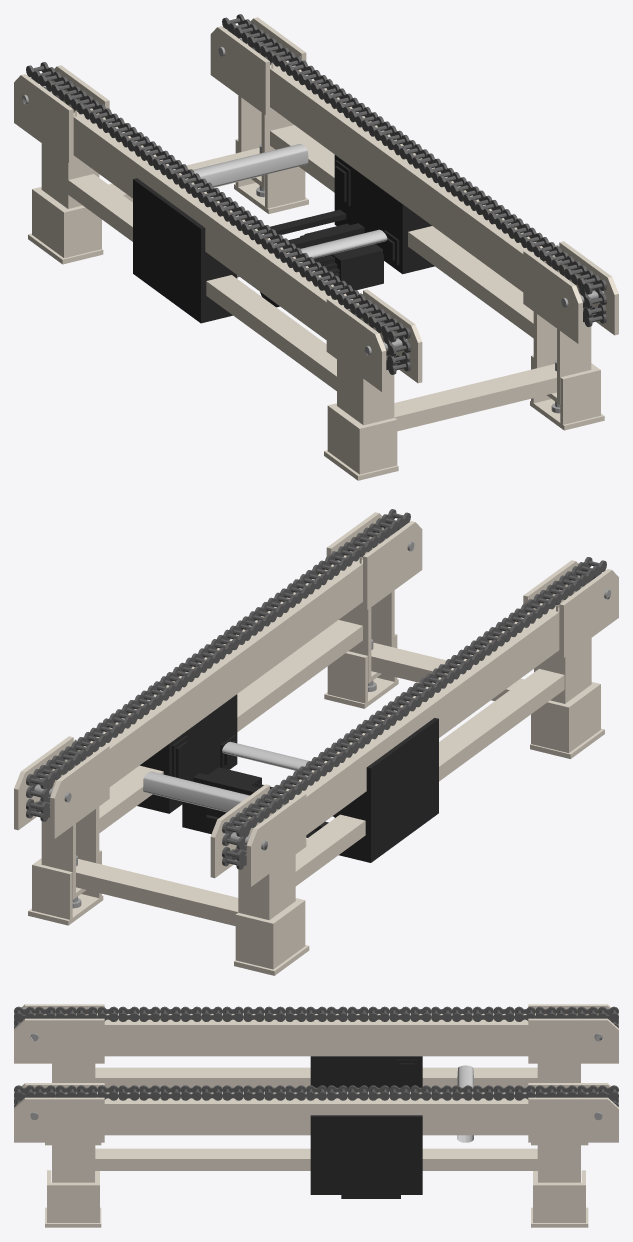
Rendered from continuous-chain-w1314-l3399.glb.
3 views of the same model, one above another, from view 1: azimuth 30°, elevation 25°; view 2: azimuth 150°, elevation 25°; view 3: azimuth 270°, elevation 25° (orthographic). The views are drawn at different scales.
Visible parts, largest first — view 1: steel_frame, bearing_chain_links, drive_motor, drive_shafts, chain_end_returns, frame_fasteners; view 2: steel_frame, bearing_chain_links, drive_motor, drive_shafts, chain_end_returns, frame_fasteners; view 3: steel_frame, bearing_chain_links, drive_motor, drive_shafts.
Boxes of the visible parts, <box> form: steel_frame: <box>14,17,618,480</box>; bearing_chain_links: <box>26,14,606,342</box>; drive_motor: <box>133,155,434,323</box>; drive_shafts: <box>193,144,387,277</box>; chain_end_returns: <box>31,23,606,369</box>; frame_fasteners: <box>22,38,604,413</box>; steel_frame: <box>14,512,618,975</box>; bearing_chain_links: <box>26,509,606,837</box>; drive_motor: <box>137,694,438,862</box>; drive_shafts: <box>143,741,308,812</box>; chain_end_returns: <box>26,523,601,865</box>; frame_fasteners: <box>29,533,610,908</box>; steel_frame: <box>14,1004,618,1227</box>; bearing_chain_links: <box>14,1006,618,1100</box>; drive_motor: <box>310,1056,422,1198</box>; drive_shafts: <box>457,1065,473,1142</box>.
Bounding box in the file's own units: 1.31 × 0.8 × 3.4.
